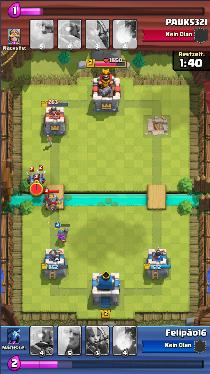ally_musketeer: (56, 227, 69, 244)
enemy_knight: (41, 193, 63, 210)
enemy_minion: (35, 174, 46, 183), (25, 175, 35, 184)
